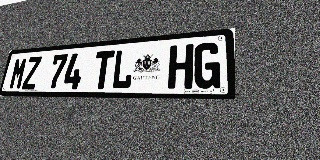4: (62, 53, 85, 89)
7: (47, 54, 68, 89)
G: (193, 42, 221, 89)
H: (167, 44, 194, 89)
L: (111, 49, 135, 89)
M: (8, 57, 28, 90)
T: (91, 50, 115, 89)
Z: (22, 56, 42, 89)
